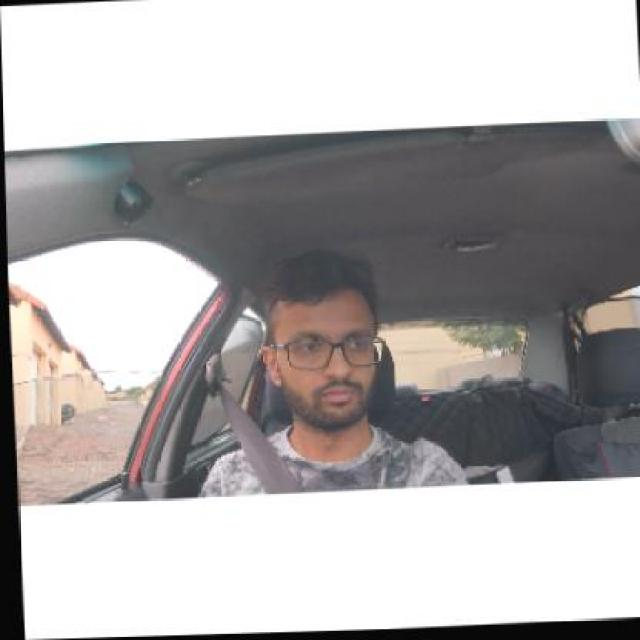person: (258, 243, 402, 432)
